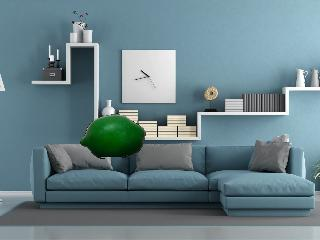lime: (78, 111, 149, 159)
